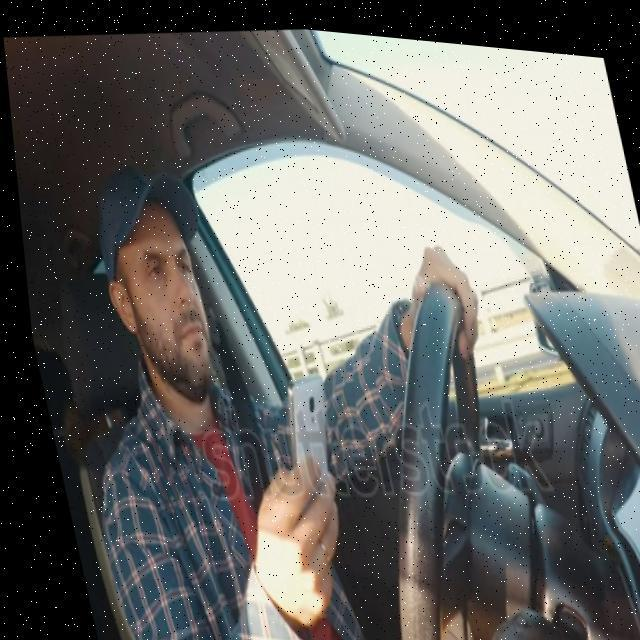PhoneCall: (263, 363, 342, 516)
